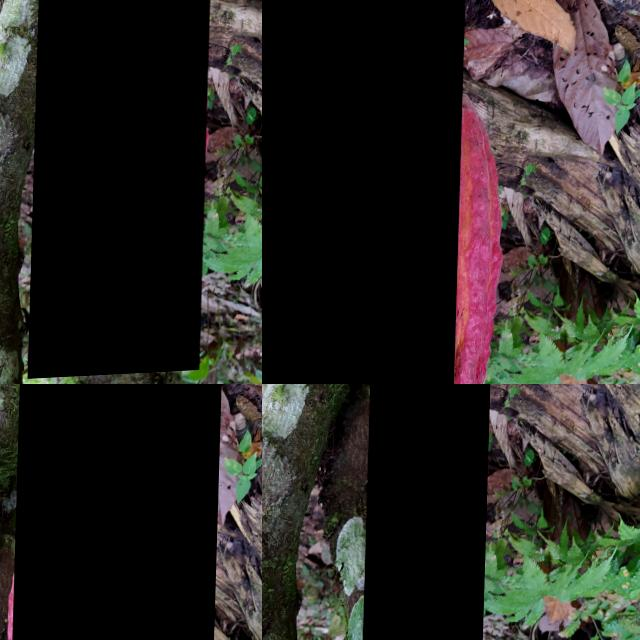Sana: (262, 0, 468, 384), (31, 0, 215, 380), (11, 384, 223, 640), (365, 384, 493, 640)
